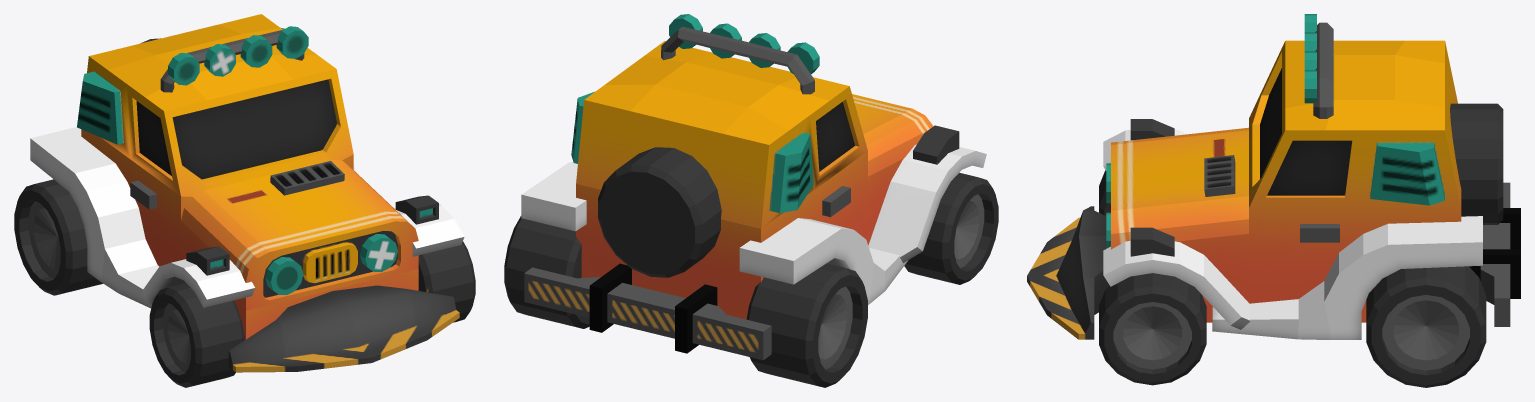
The model's file is Car-2.fbx.
3 renders of one model, left to right at view 1: azimuth 30°, elevation 25°; view 2: azimuth 150°, elevation 25°; view 3: azimuth 270°, elevation 25°, orthographic. The views are drawn at different scales.
Visible parts, largest first — view 1: Cube.182, Cube.178, Cylinder.208, Cylinder.213, Cylinder.212, Cylinder.209, Cylinder.211, Cylinder.207, Cylinder.205, Cube.177, Circle.018, Cube.179; view 2: Cube.182, Cylinder.210, Cylinder.212, Cylinder.208, Cube.180, Cylinder.209, Cylinder.213, Cylinder.206, Cube.181, Circle.018, Cylinder.211, Cube.179; view 3: Cube.182, Cylinder.208, Cylinder.206, Cylinder.207, Cylinder.209, Cube.178, Cylinder.210, Cube.180, Circle.018, Cube.181, Cube.177, Cylinder.211 (+1 smaller).
Boxes of the visible parts, x1,y1,x2,y2 form: Cube.182: (77, 14, 418, 339); Cube.178: (228, 285, 459, 372); Cylinder.208: (30, 127, 355, 308); Cylinder.213: (149, 283, 244, 387); Cylinder.212: (14, 179, 103, 295); Cylinder.209: (142, 195, 464, 307); Cylinder.211: (168, 26, 308, 85); Cylinder.207: (418, 241, 475, 322); Cylinder.205: (265, 234, 397, 294); Cube.177: (270, 160, 344, 195); Circle.018: (160, 29, 304, 92); Cube.179: (130, 180, 156, 209); Cube.182: (571, 41, 933, 319); Cylinder.210: (598, 147, 721, 277); Cylinder.212: (746, 263, 867, 387); Cylinder.208: (521, 162, 908, 304); Cube.180: (524, 267, 771, 360); Cylinder.209: (868, 125, 986, 262); Cylinder.213: (904, 172, 998, 284); Cylinder.206: (504, 216, 589, 328); Cube.181: (589, 263, 717, 353); Circle.018: (661, 26, 814, 94); Cylinder.211: (669, 14, 819, 74); Cube.179: (822, 186, 850, 217); Cube.182: (1111, 40, 1461, 322); Cylinder.208: (1212, 216, 1482, 339); Cylinder.206: (1366, 266, 1486, 387); Cylinder.207: (1099, 273, 1206, 385); Cylinder.209: (1103, 119, 1250, 329); Cube.178: (1027, 206, 1109, 339); Cylinder.210: (1450, 103, 1503, 224); Cube.180: (1480, 182, 1510, 326); Circle.018: (1313, 22, 1333, 118); Cube.181: (1469, 208, 1520, 298); Cube.177: (1204, 155, 1235, 196); Cylinder.211: (1304, 14, 1316, 103).
Bounding box in the file's own units: 260 × 220 × 363.
